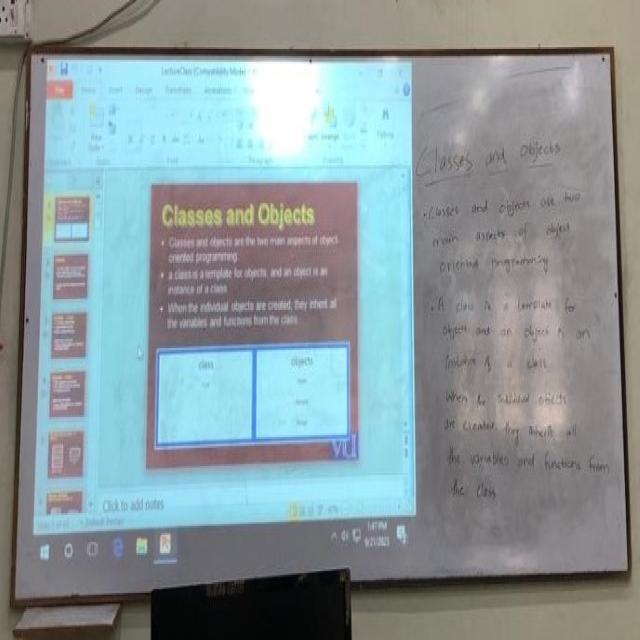Slide: (35, 60, 419, 572)
White-board: (16, 50, 631, 601)
